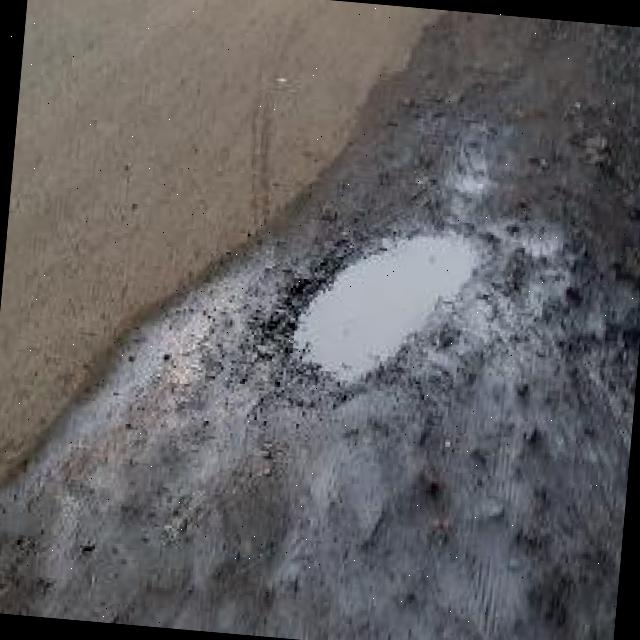stagnation: (272, 202, 494, 416)
